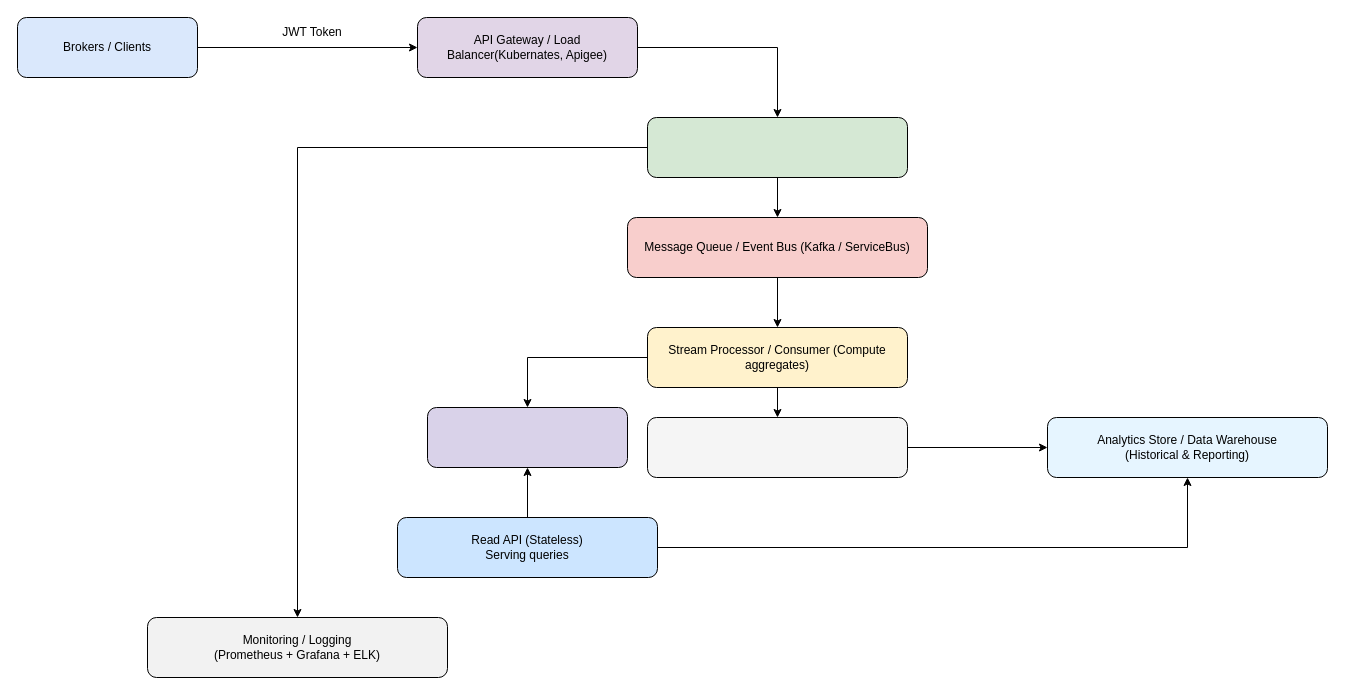
The diagram is 1345 pixels wide and 695 high, and some of its shapes have lost their labels. The shapes that lost their labels are listed below. From the top down, each one's box as (x1, y1, x2, y2) in pixels, then its label:
(646, 116, 908, 178): Web API (ASP.NET Core) - Stateless
(426, 406, 628, 468): Cache Layer (Redis - Average Price)
(646, 416, 908, 478): OLTP Database (PostgreSQL / SQL Server) Raw trade store
